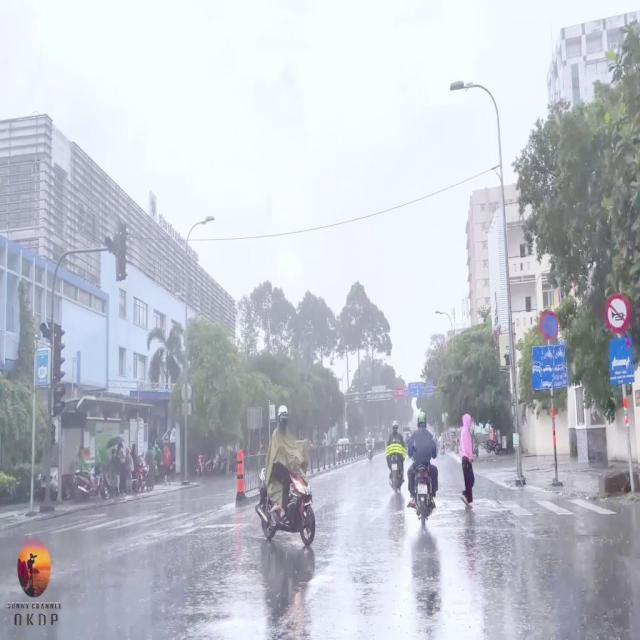128-cam-su-dung-coi: (605, 292, 631, 336)
131a-cam-do-xe: (539, 310, 561, 340)
